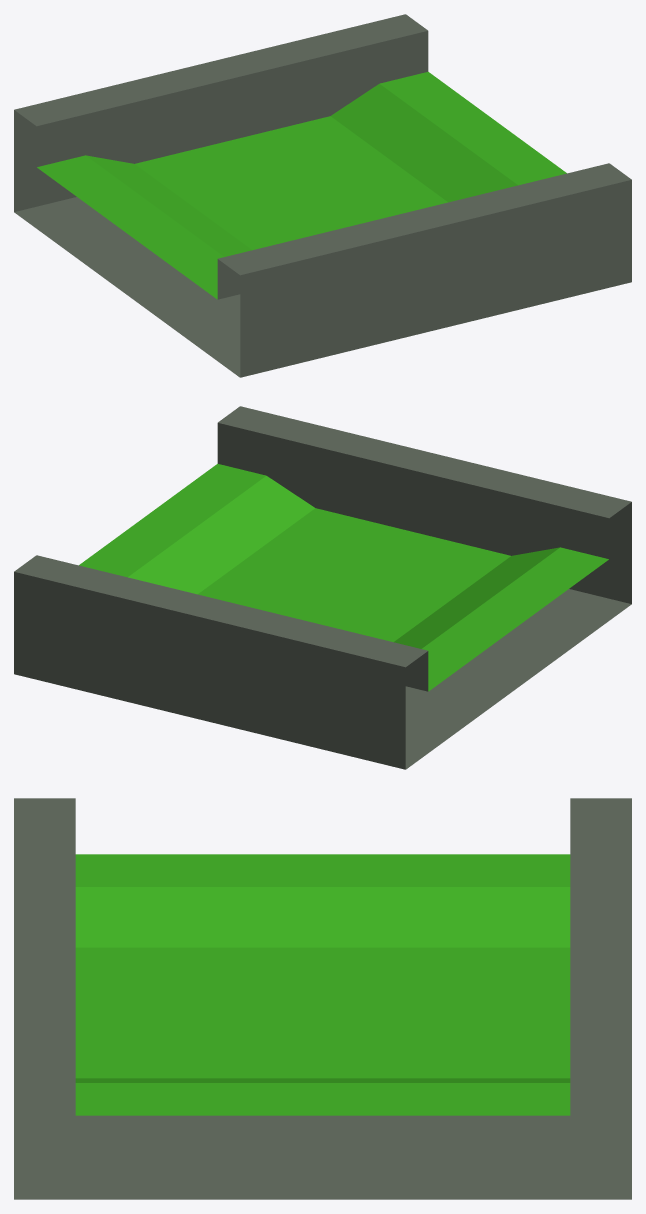
Rendered from StraightBumpDown.fbx.
3 views of the same model, one above another, from view 1: azimuth 30°, elevation 25°; view 2: azimuth 150°, elevation 25°; view 3: azimuth 270°, elevation 25° (orthographic). The views are drawn at different scales.
Visible parts, largest first — view 1: Straight.001; view 2: Straight.001; view 3: Straight.001.
Part boxes in pixels (bbox=[...]): Straight.001: bbox=[14, 14, 631, 377]; Straight.001: bbox=[14, 406, 631, 769]; Straight.001: bbox=[14, 798, 631, 1199].
Size of the model in its own units: 200 by 50 by 200.
